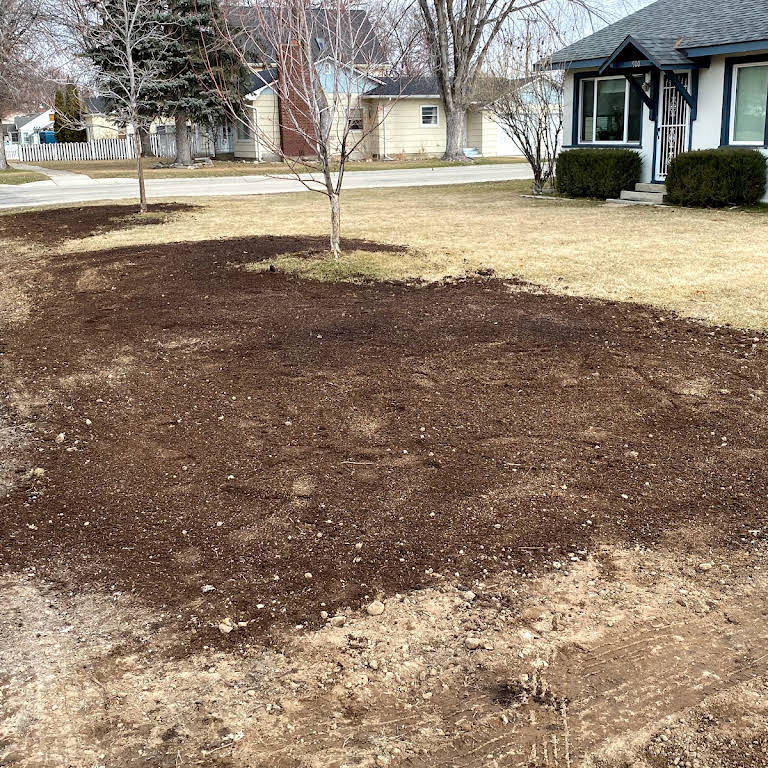dirt: (9, 239, 758, 753)
tree: (328, 189, 340, 254)
